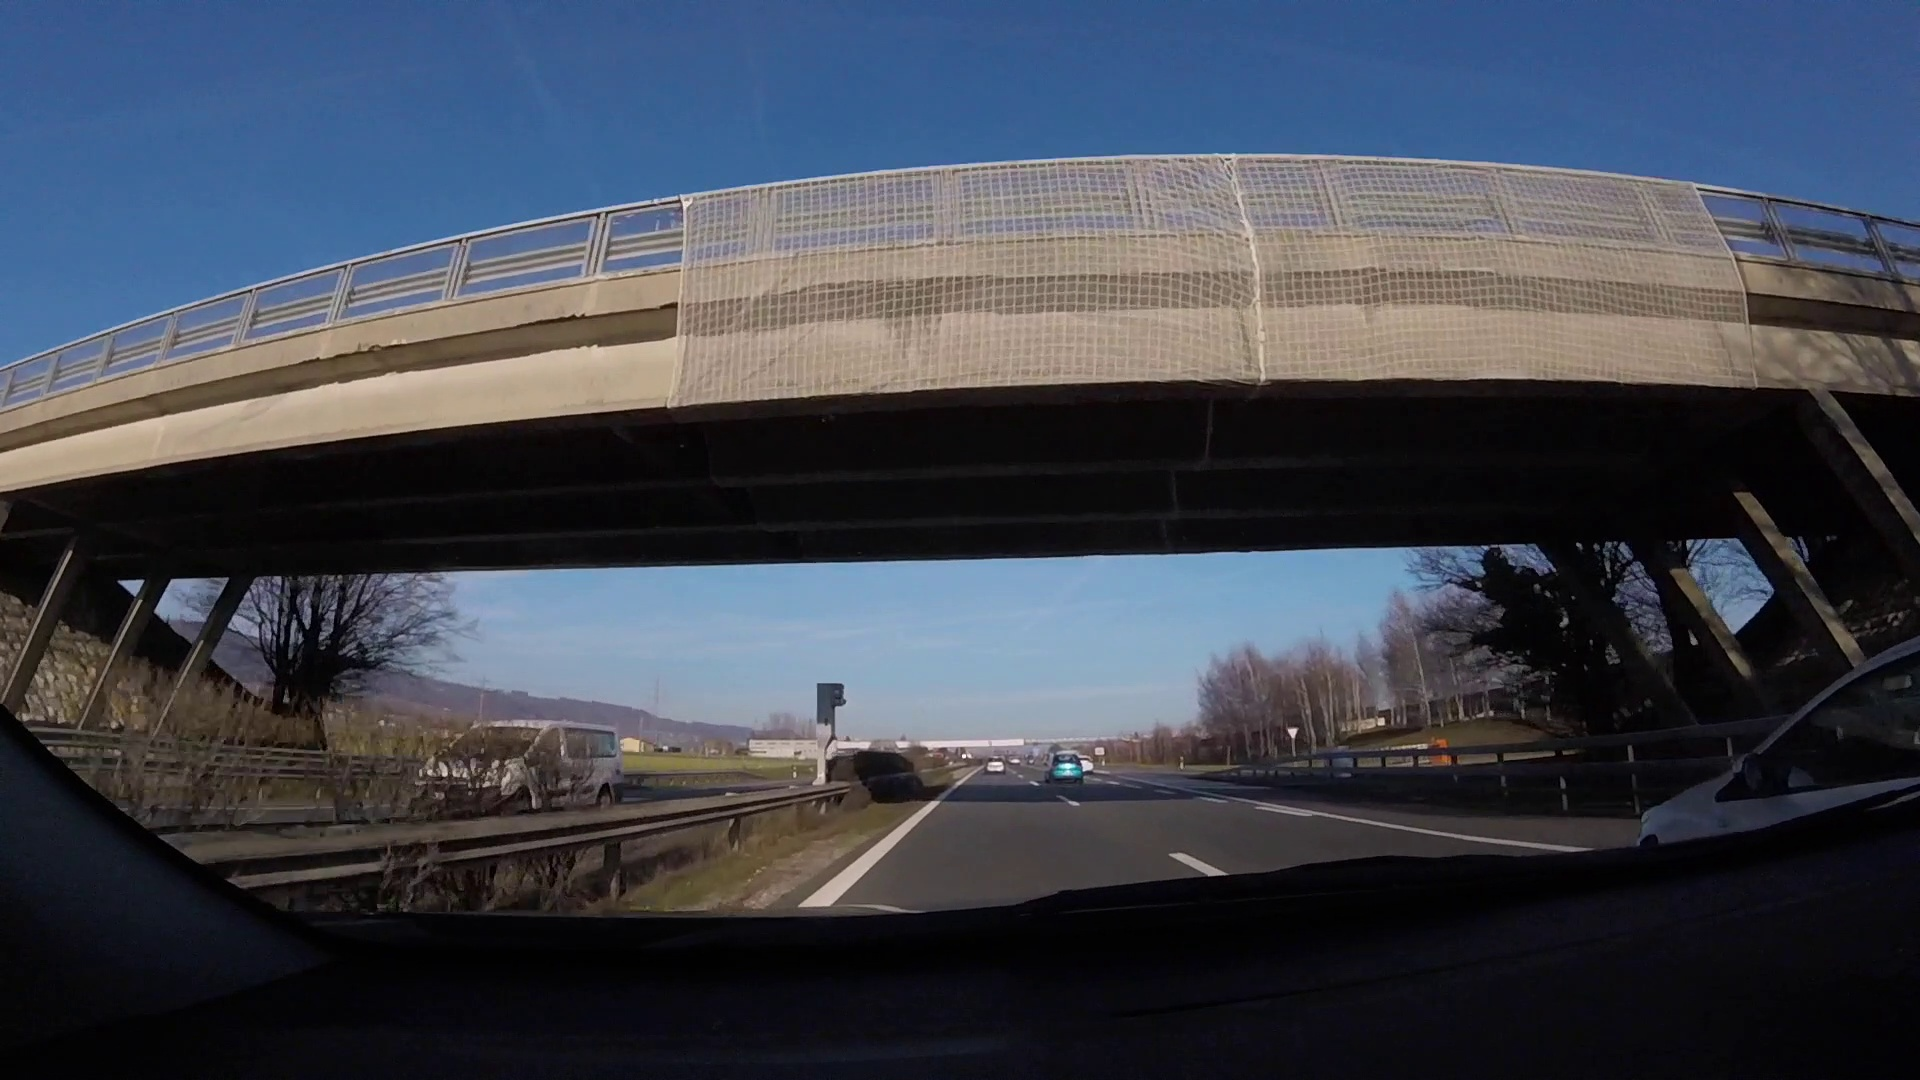radar: (814, 680, 849, 790)
